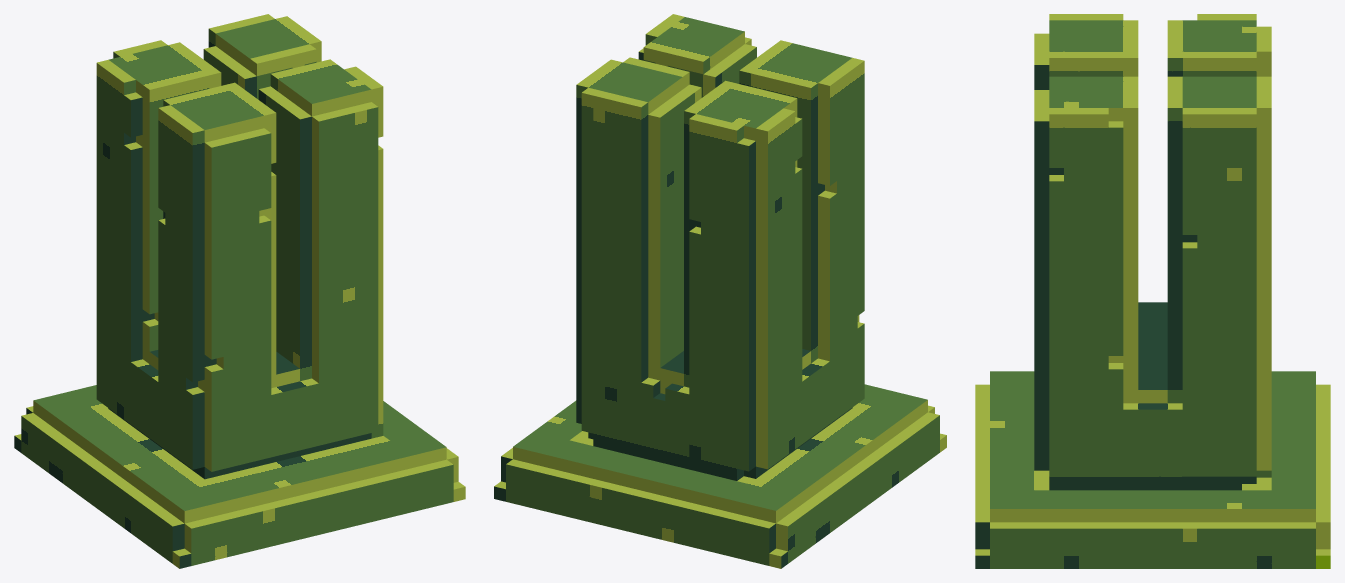
The model's file is fork_greenao.fezao.glb.
The picture shows the model from 3 angles, left to right: view 1: azimuth 30°, elevation 25°; view 2: azimuth 150°, elevation 25°; view 3: azimuth 270°, elevation 25°; orthographic projection. The views are drawn at different scales.
Visible parts, largest first — view 1: FORK_GREENAO; view 2: FORK_GREENAO; view 3: FORK_GREENAO.
Part boxes in pixels (x1,y1,x2,y2): FORK_GREENAO: (14,14,465,568); FORK_GREENAO: (494,14,946,568); FORK_GREENAO: (975,14,1330,568).
Size of the model in its own units: 1.5 by 2 by 1.5.
Materials: 1 (1 with a texture image).
